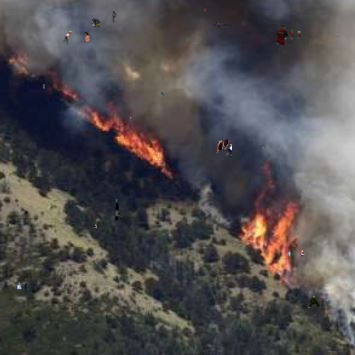Human: (276, 24, 301, 45), (62, 31, 90, 49), (92, 11, 117, 27), (106, 199, 122, 221), (216, 137, 232, 157), (287, 250, 305, 258), (308, 296, 320, 308), (16, 281, 28, 290), (214, 23, 228, 28), (160, 92, 165, 96), (29, 313, 33, 318), (94, 224, 97, 228), (216, 334, 218, 340), (204, 8, 207, 12), (62, 283, 64, 288), (43, 84, 45, 89), (130, 117, 132, 122), (262, 146, 265, 149), (191, 215, 194, 218), (336, 34, 339, 37)
